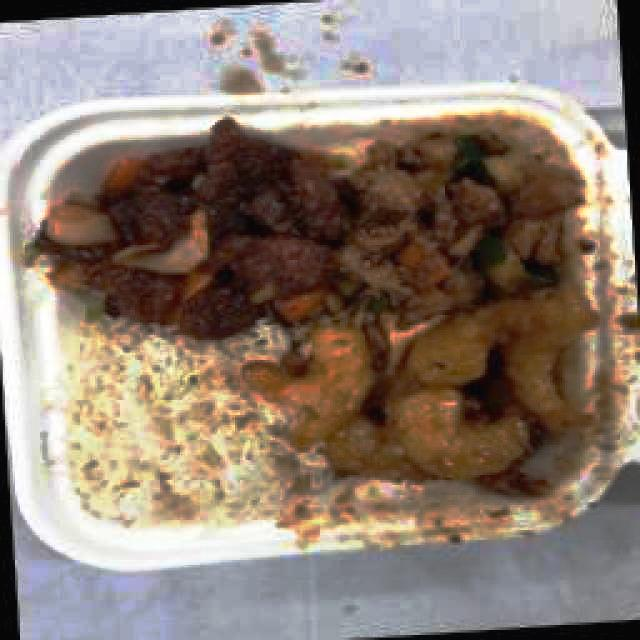Beijing Beef: (45, 114, 558, 300)
rice: (56, 320, 244, 527)
